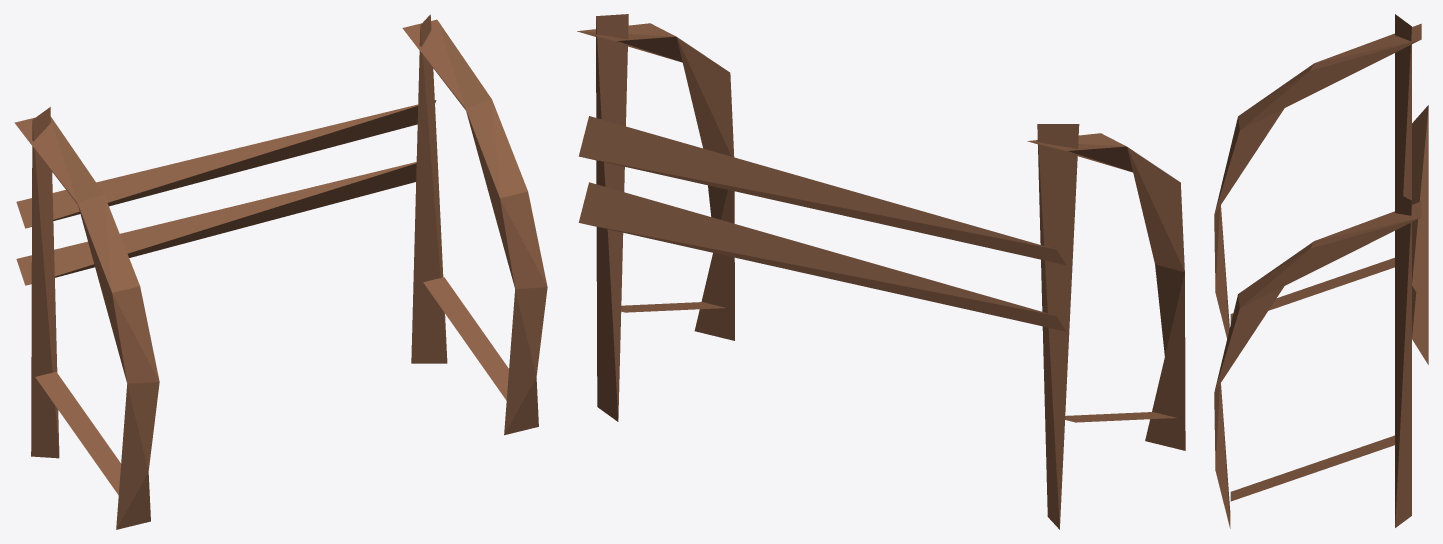
File: weapon-rack.lod2.glb
3 views of the same model, side by side, from view 1: azimuth 30°, elevation 25°; view 2: azimuth 150°, elevation 25°; view 3: azimuth 270°, elevation 25° (orthographic). The views are drawn at different scales.
Parts seen in each view (by area): view 1: defaultMaterial; view 2: defaultMaterial; view 3: defaultMaterial.
Boxes of the visible parts, x1=… form: defaultMaterial: x1=14, y1=14, x2=547, y2=529; defaultMaterial: x1=577, y1=14, x2=1185, y2=529; defaultMaterial: x1=1214, y1=14, x2=1428, y2=528.
Bounding box in the file's own units: 1.82 × 1.42 × 0.8499.
